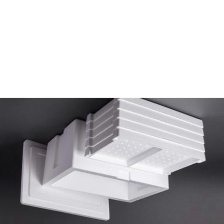foam_box: (37, 115, 172, 205), (80, 98, 209, 178), (16, 137, 113, 223)
